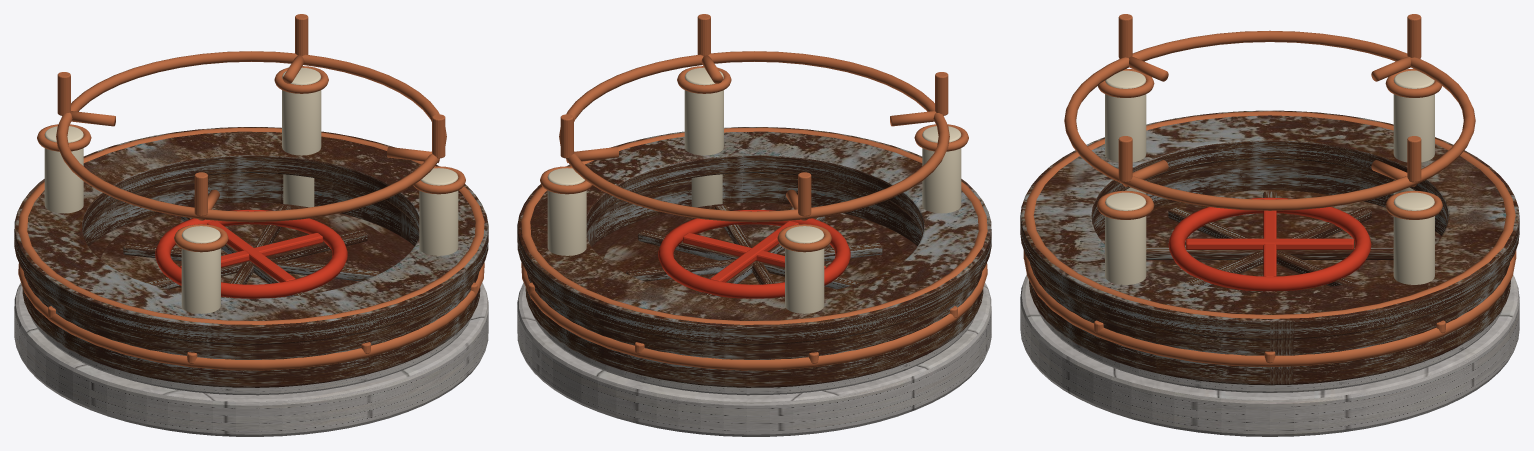
The model's file is forge-hearth.glb.
3 views of the same model, side by side, from view 1: azimuth 30°, elevation 25°; view 2: azimuth 150°, elevation 25°; view 3: azimuth 270°, elevation 25° (orthographic). The views are drawn at different scales.
Parts seen in each view (by area): view 1: ForgeHearth_IronStatic, ForgeHearth_CopperStatic, ForgeHearth_StoneStatic, ForgeHearth_CeramicStatic, ThermalElement; view 2: ForgeHearth_IronStatic, ForgeHearth_CopperStatic, ForgeHearth_StoneStatic, ForgeHearth_CeramicStatic, ThermalElement; view 3: ForgeHearth_IronStatic, ForgeHearth_CopperStatic, ForgeHearth_StoneStatic, ForgeHearth_CeramicStatic, ThermalElement.
Part boxes in pixels (box(x1,y1,x2,y2)): ForgeHearth_IronStatic: box(14, 127, 488, 387); ForgeHearth_CopperStatic: box(18, 14, 484, 370); ForgeHearth_StoneStatic: box(14, 282, 488, 436); ForgeHearth_CeramicStatic: box(44, 67, 458, 313); ThermalElement: box(155, 209, 347, 298); ForgeHearth_IronStatic: box(517, 127, 991, 387); ForgeHearth_CopperStatic: box(521, 14, 987, 370); ForgeHearth_StoneStatic: box(517, 282, 991, 436); ForgeHearth_CeramicStatic: box(547, 67, 961, 313); ThermalElement: box(658, 209, 850, 298); ForgeHearth_IronStatic: box(1020, 110, 1519, 385); ForgeHearth_CopperStatic: box(1023, 14, 1516, 366); ForgeHearth_StoneStatic: box(1020, 274, 1519, 436); ForgeHearth_CeramicStatic: box(1105, 70, 1434, 284); ThermalElement: box(1168, 197, 1371, 291).
Size of the model in its own units: 4.6 by 2.6 by 4.6.
5 materials, 2 textured.
